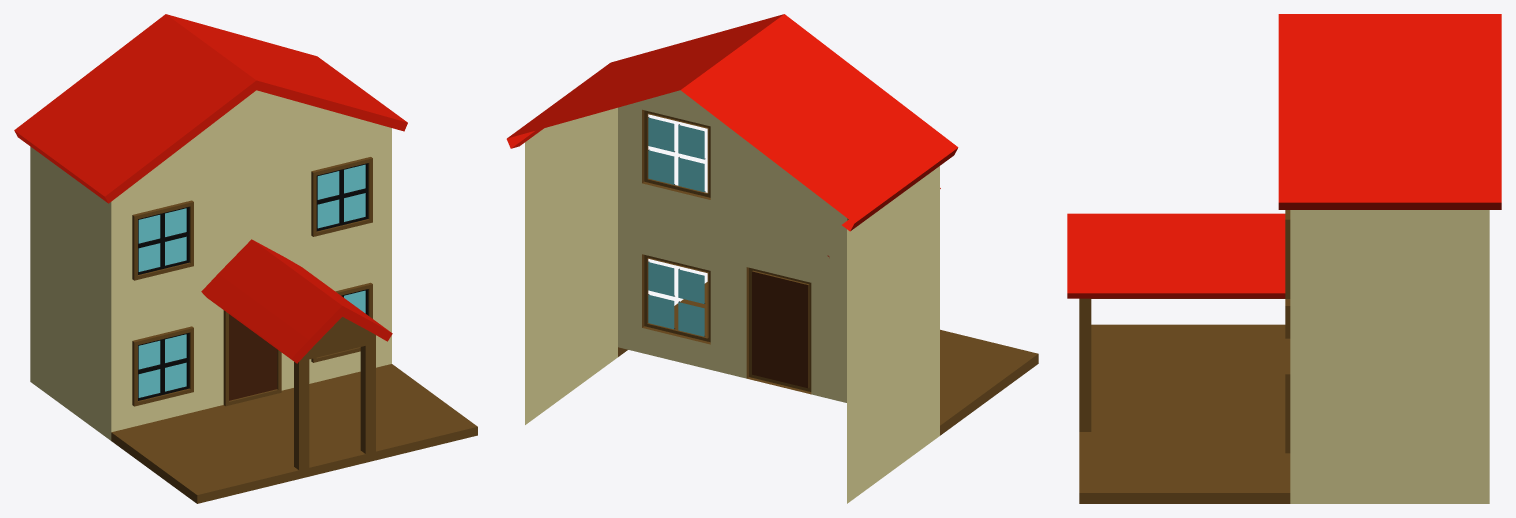
The model's file is 08-Eighth-House-01.fbx.
The picture shows the model from 3 angles, left to right: view 1: azimuth 30°, elevation 25°; view 2: azimuth 150°, elevation 25°; view 3: azimuth 270°, elevation 25°; orthographic projection. The views are drawn at different scales.
Parts seen in each view (by area): view 1: House.Mesh.Eighth; view 2: House.Mesh.Eighth; view 3: House.Mesh.Eighth.
Boxes of the visible parts, x1=… form: House.Mesh.Eighth: x1=14, y1=14, x2=477, y2=503; House.Mesh.Eighth: x1=506, y1=14, x2=1038, y2=503; House.Mesh.Eighth: x1=1067, y1=14, x2=1501, y2=503.
Size of the model in its own units: 4.32 by 4.49 by 4.36.
